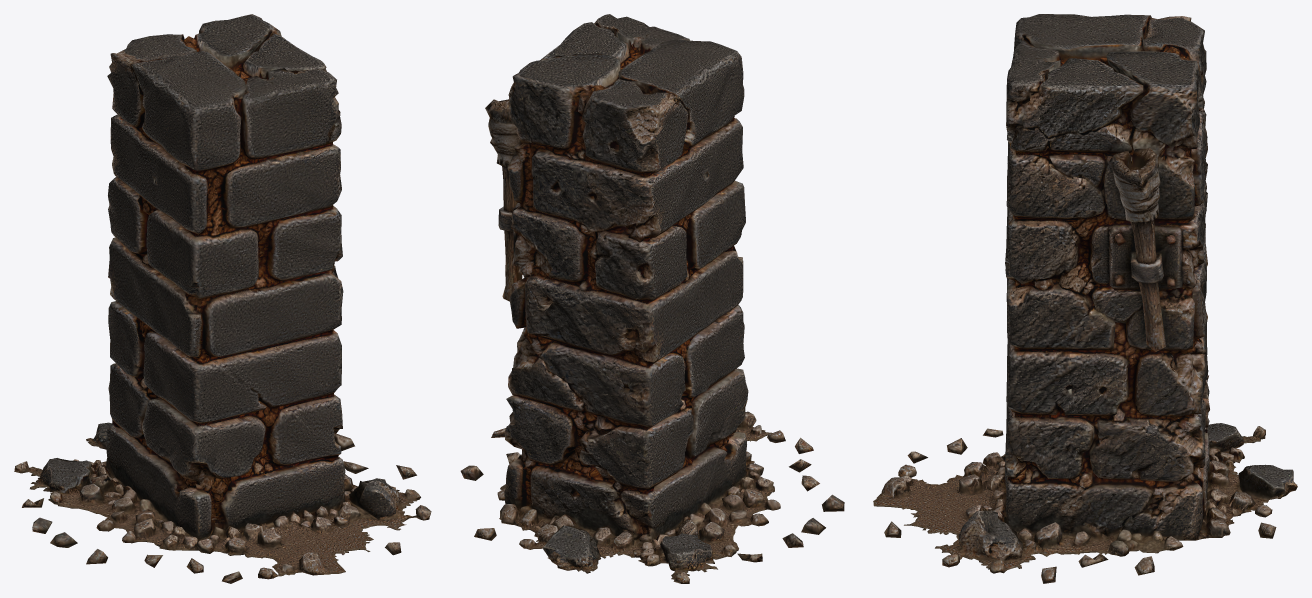
File: pillar_torch.glb
3 renders of one model, left to right at view 1: azimuth 30°, elevation 25°; view 2: azimuth 150°, elevation 25°; view 3: azimuth 270°, elevation 25°, orthographic. The views are drawn at different scales.
Parts seen in each view (by area): view 1: tripo_node_0029c8fa-096e-4a82-905f-840b0f9a29f3; view 2: tripo_node_0029c8fa-096e-4a82-905f-840b0f9a29f3; view 3: tripo_node_0029c8fa-096e-4a82-905f-840b0f9a29f3.
Boxes of the visible parts, box(x1,y1,x2,y2) form: tripo_node_0029c8fa-096e-4a82-905f-840b0f9a29f3: box(14, 14, 431, 583); tripo_node_0029c8fa-096e-4a82-905f-840b0f9a29f3: box(460, 14, 844, 583); tripo_node_0029c8fa-096e-4a82-905f-840b0f9a29f3: box(873, 14, 1297, 583).
Bounding box in the file's own units: 0.8317 × 1 × 0.8474.
Materials: 1 (1 with a texture image).
